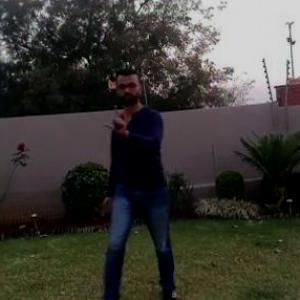land_hand: (101, 102, 132, 137)
